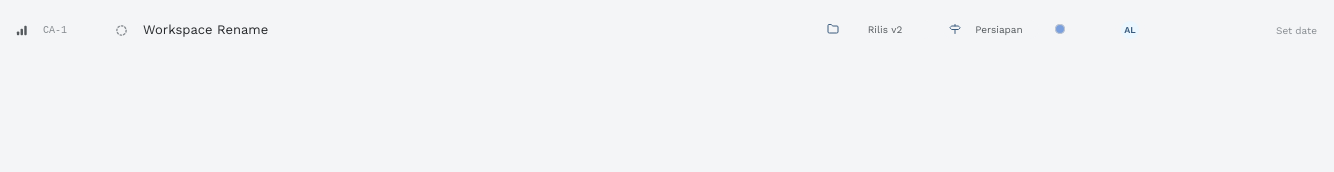
Scenario: TrackerRow › single-picker mutex › closes project and opens phase
Click the button with aria-label "Project: Rilis v2". click: (877, 29)
box: [821,20,933,38]
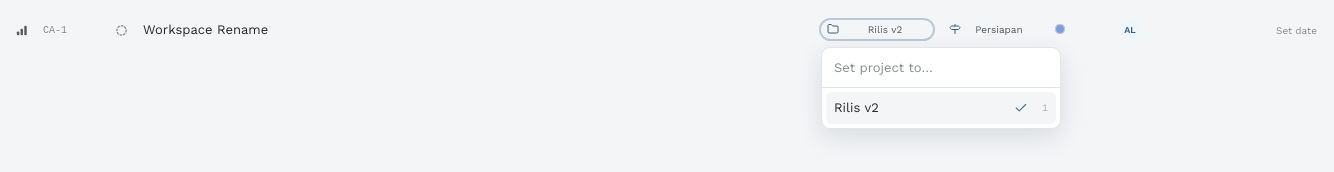
Expected: the dropdown labelled "Set project to…" is shown, [822,48,1060,88]
Click the button with aria-label "Phase: Persiapan". click: (991, 29)
box: [943,20,1039,38]
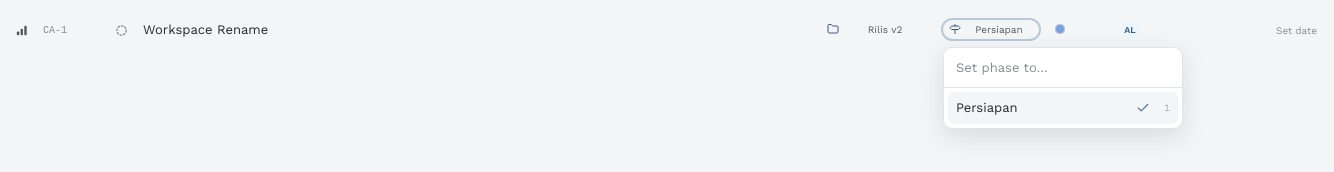
Expected: the dropdown labelled "Set project to…" is not shown
Expected: the dropdown labelled "Set phase to…" is shown, [944,48,1182,88]
